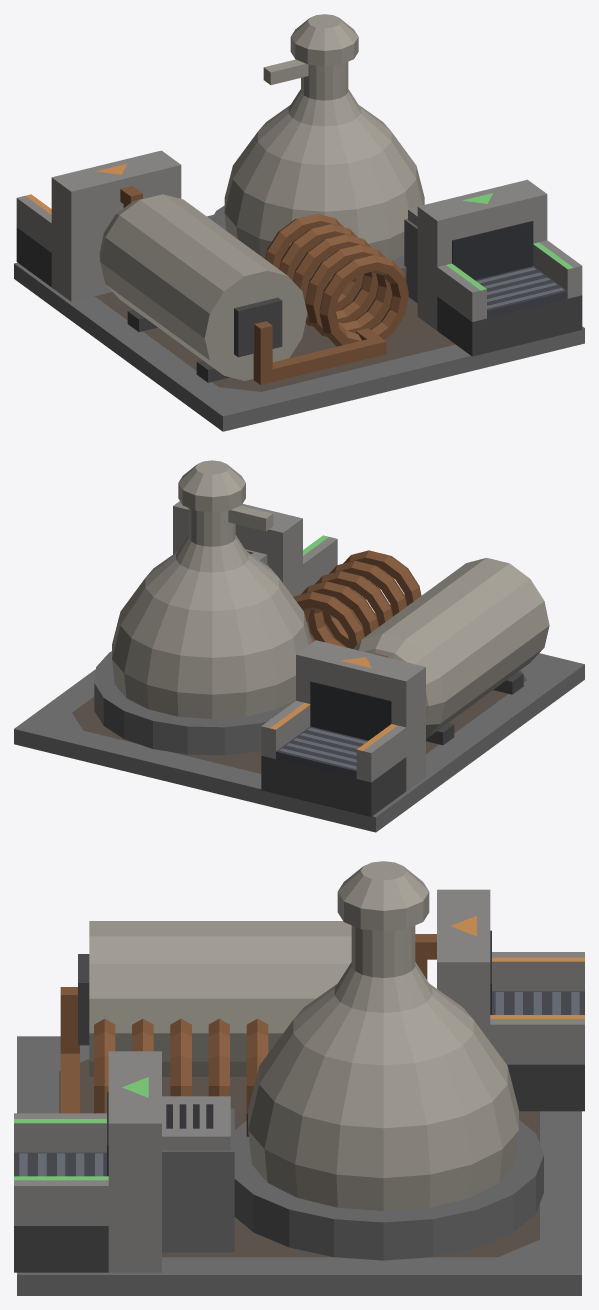
File: vfef_distillery.obj
The picture shows the model from 3 angles, top to bottom: view 1: azimuth 30°, elevation 25°; view 2: azimuth 150°, elevation 25°; view 3: azimuth 270°, elevation 25°; orthographic projection. The views are drawn at different scales.
Parts seen in each view (by area): view 1: vfef_distillery_3, vfef_distillery_6, vfef_distillery_0, vfef_distillery_31, vfef_distillery_41, vfef_distillery_1, vfef_distillery_34, vfef_distillery_11, vfef_distillery_43, vfef_distillery_12, vfef_distillery_4, vfef_distillery_13 (+13 smaller); view 2: vfef_distillery_3, vfef_distillery_0, vfef_distillery_6, vfef_distillery_31, vfef_distillery_2, vfef_distillery_24, vfef_distillery_41, vfef_distillery_33, vfef_distillery_4, vfef_distillery_1, vfef_distillery_7, vfef_distillery_25 (+10 smaller); view 3: vfef_distillery_3, vfef_distillery_0, vfef_distillery_6, vfef_distillery_2, vfef_distillery_41, vfef_distillery_21, vfef_distillery_31, vfef_distillery_1, vfef_distillery_4, vfef_distillery_34, vfef_distillery_37, vfef_distillery_29 (+18 smaller).
Part boxes in pixels (box(x1,y1,x2,y2)): vfef_distillery_3: box(224, 62, 424, 272); vfef_distillery_6: box(100, 194, 307, 380); vfef_distillery_0: box(14, 215, 584, 431); vfef_distillery_31: box(51, 150, 181, 301); vfef_distillery_41: box(417, 179, 547, 330); vfef_distillery_1: box(95, 292, 455, 391); vfef_distillery_34: box(437, 295, 582, 356); vfef_distillery_11: box(319, 255, 408, 346); vfef_distillery_43: box(452, 221, 533, 279); vfef_distillery_12: box(305, 244, 392, 337); vfef_distillery_4: box(290, 14, 358, 66); vfef_distillery_13: box(293, 234, 378, 326); vfef_distillery_3: box(112, 508, 311, 719); vfef_distillery_0: box(14, 613, 584, 832); vfef_distillery_6: box(362, 558, 549, 737); vfef_distillery_31: box(296, 640, 425, 790); vfef_distillery_2: box(94, 651, 295, 755); vfef_distillery_24: box(261, 756, 406, 816); vfef_distillery_41: box(173, 501, 302, 596); vfef_distillery_33: box(310, 681, 391, 740); vfef_distillery_4: box(178, 460, 245, 512); vfef_distillery_1: box(72, 623, 526, 773); vfef_distillery_7: box(353, 634, 444, 738); vfef_distillery_25: box(276, 726, 368, 778); vfef_distillery_3: box(248, 925, 518, 1210); vfef_distillery_0: box(17, 1036, 581, 1295); vfef_distillery_6: box(89, 921, 351, 1077); vfef_distillery_2: box(234, 1120, 543, 1260); vfef_distillery_41: box(108, 1051, 161, 1272); vfef_distillery_21: box(162, 1108, 234, 1252); vfef_distillery_31: box(437, 889, 490, 1041); vfef_distillery_1: box(59, 1059, 539, 1257); vfef_distillery_4: box(337, 861, 429, 931); vfef_distillery_34: box(14, 1226, 108, 1272); vfef_distillery_37: box(14, 1180, 108, 1225); vfef_distillery_29: box(490, 1019, 584, 1064).
Bounding box in the file's own units: 2.96 × 1.98 × 2.99.
